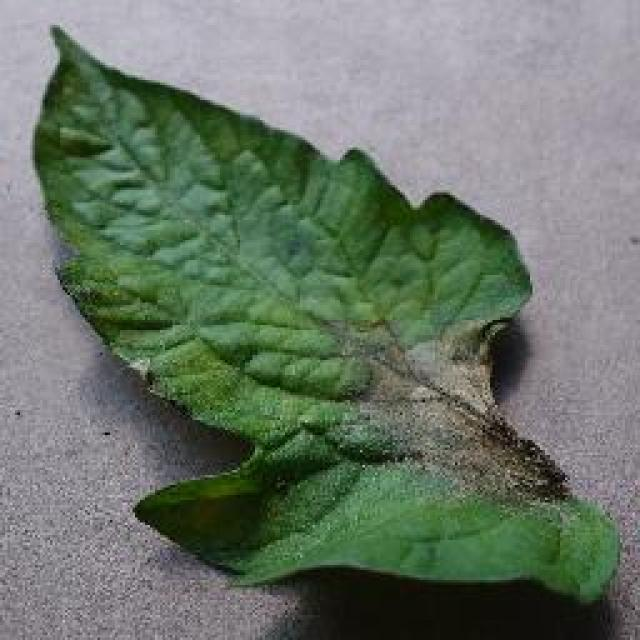Tomato Late Blight: (328, 295, 604, 533)
